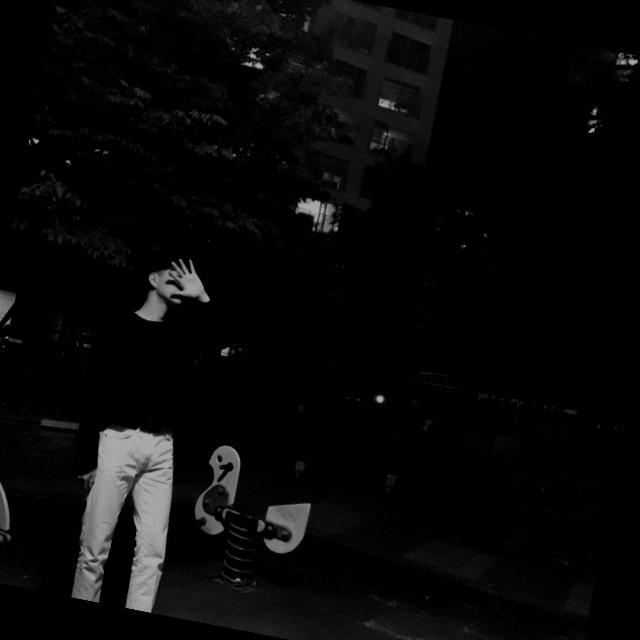cottonpants: (63, 418, 191, 614)
longsleeve: (64, 276, 244, 498)
